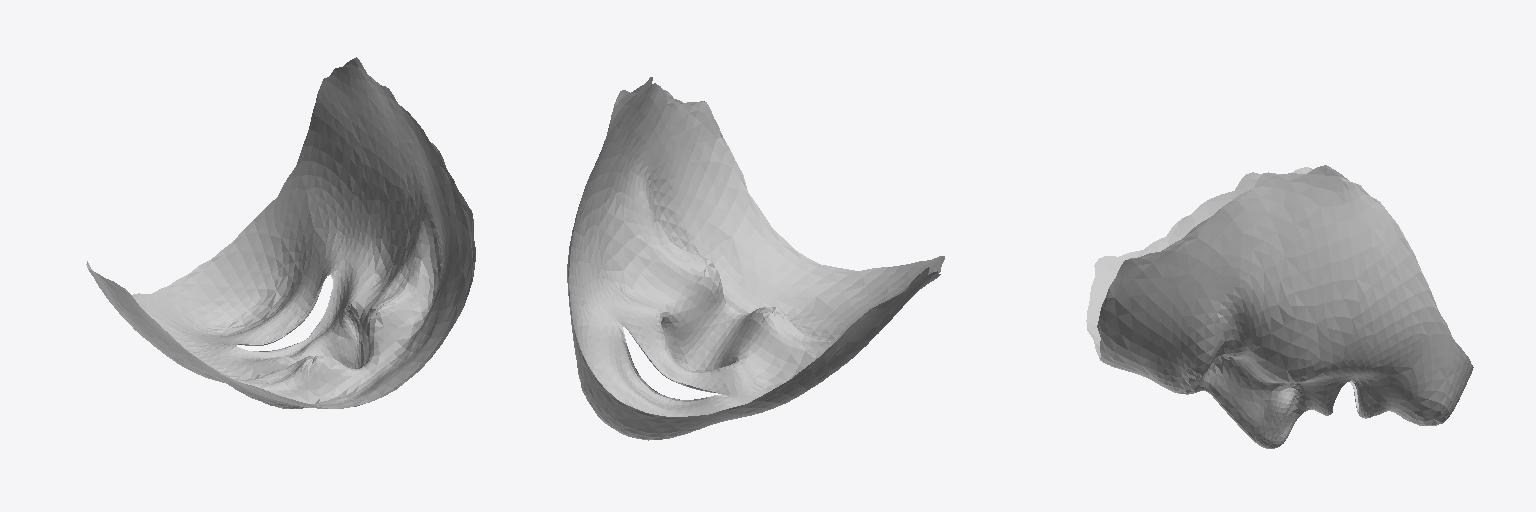
Rendered from face_gab_sfm26.obj.
3 renders of one model, left to right at view 1: azimuth 30°, elevation 25°; view 2: azimuth 150°, elevation 25°; view 3: azimuth 270°, elevation 25°, orthographic.
Bounding box in the file's own units: 164 × 154 × 179.